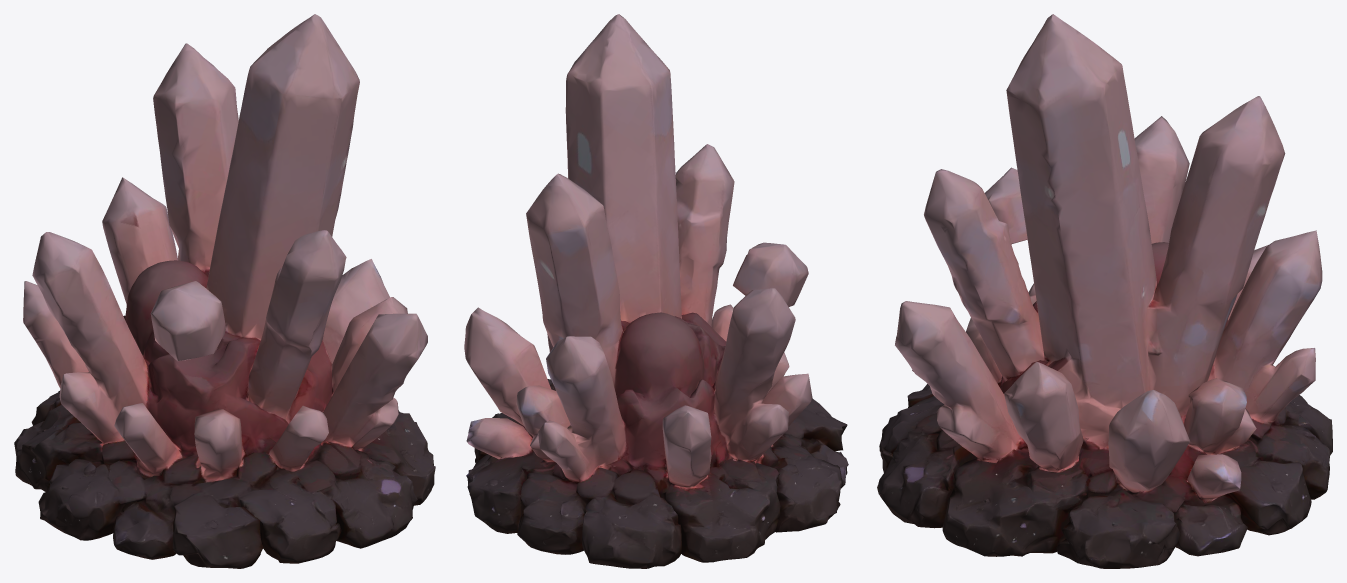
The model's file is cristal.glb.
3 renders of one model, left to right at view 1: azimuth 30°, elevation 25°; view 2: azimuth 150°, elevation 25°; view 3: azimuth 270°, elevation 25°, orthographic. The views are drawn at different scales.
Visible parts, largest first — view 1: tripo_node_2290fe5c-fe6e-40d7-9af0-1f0c1115a334; view 2: tripo_node_2290fe5c-fe6e-40d7-9af0-1f0c1115a334; view 3: tripo_node_2290fe5c-fe6e-40d7-9af0-1f0c1115a334.
Part boxes in pixels (left/top/right/bottom): tripo_node_2290fe5c-fe6e-40d7-9af0-1f0c1115a334: left=14, top=14, right=435, bottom=568; tripo_node_2290fe5c-fe6e-40d7-9af0-1f0c1115a334: left=464, top=14, right=848, bottom=568; tripo_node_2290fe5c-fe6e-40d7-9af0-1f0c1115a334: left=877, top=14, right=1332, bottom=568.
Size of the model in its own units: 0.8174 by 1 by 0.8297.
Materials: 1 (1 with a texture image).
